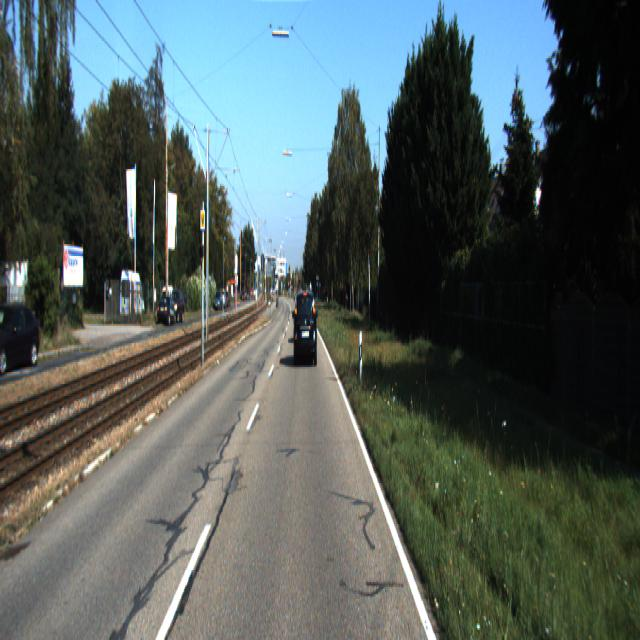Car: (0, 302, 39, 376), (294, 290, 318, 369), (119, 271, 146, 325), (157, 295, 178, 328)
